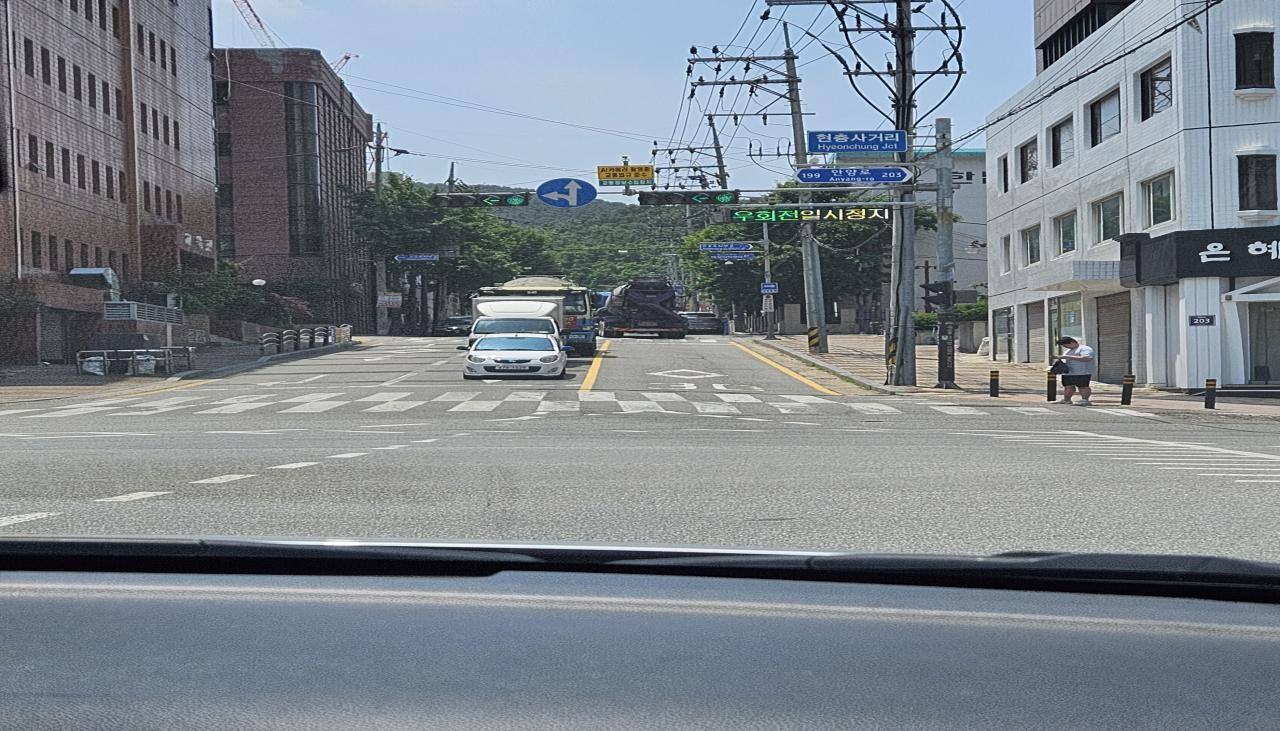Green Light: (714, 192, 736, 204), (504, 196, 527, 206)
Left turn: (684, 192, 713, 204), (478, 194, 503, 206)
